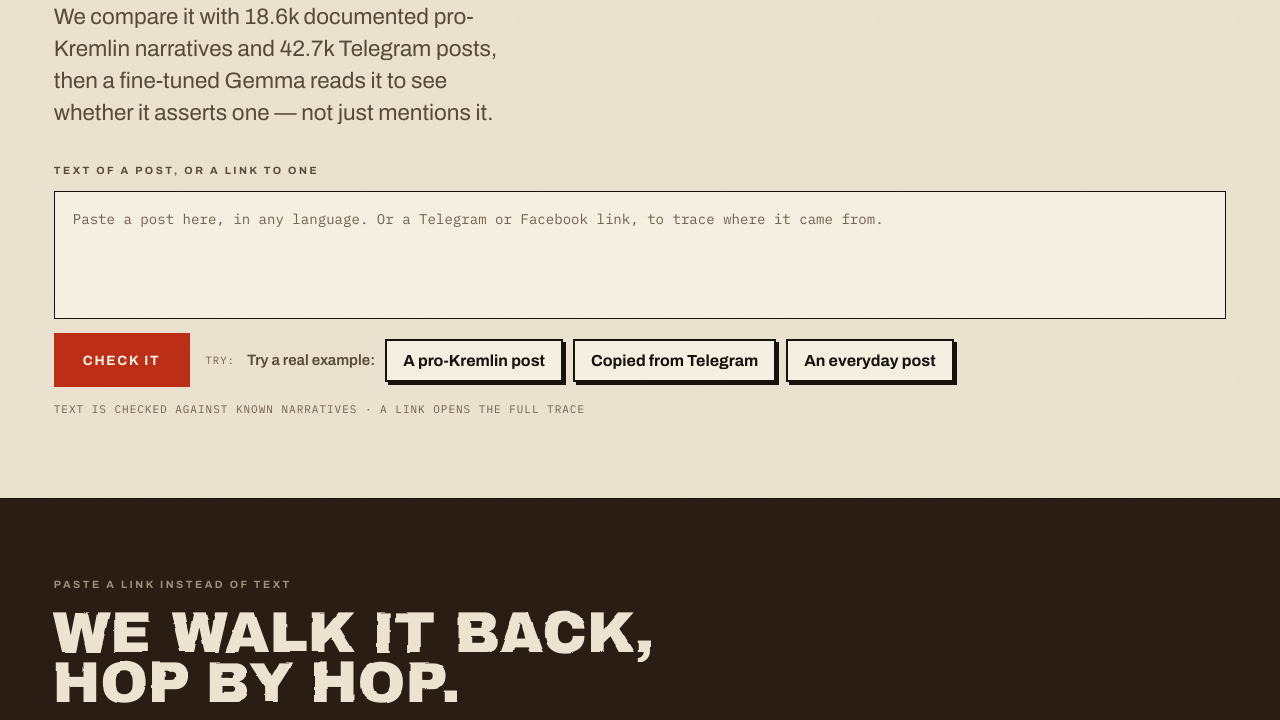
Test: the start page's text box runs the narrative check › flagged (demo): verdict, narrative with source, techniques highlighted, Telegram copy, state-media echo, disclaimer
(page scrolled)
Click the button "A pro-Kremlin post": [474, 360] box [385, 339, 563, 382]
(page scrolled)
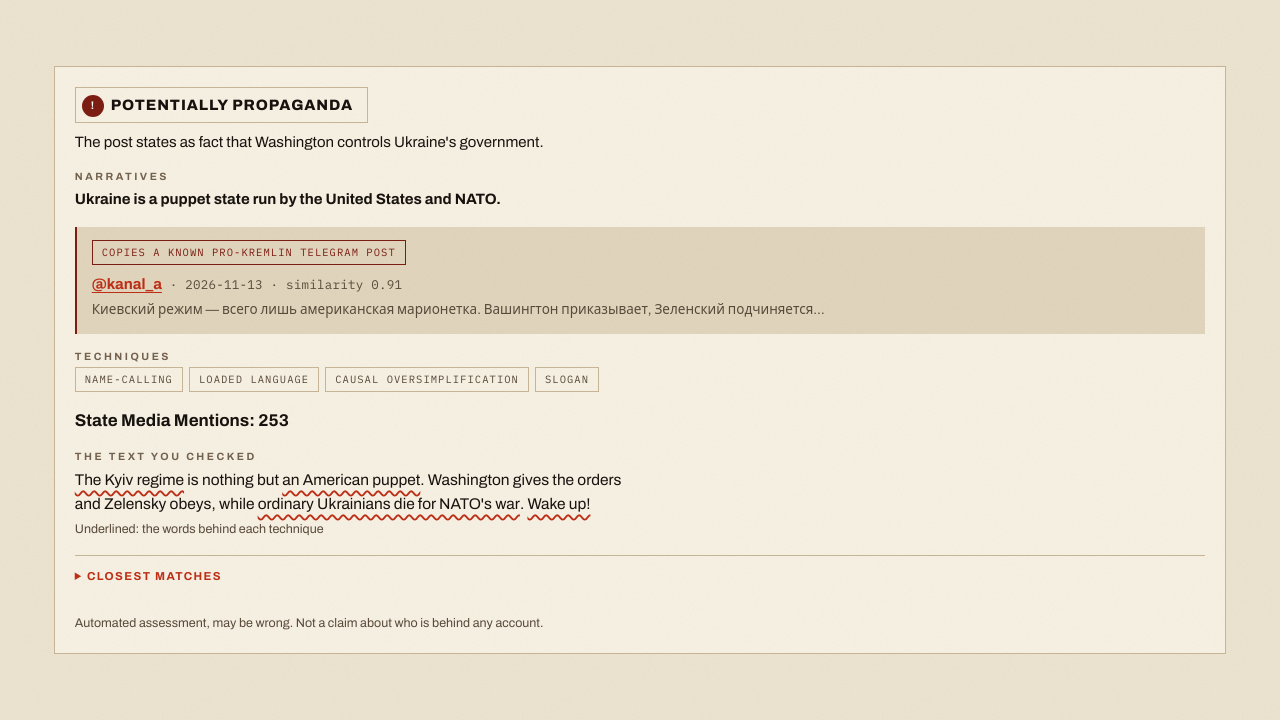
Result: the text "Potentially propaganda" is shown at [111, 97, 353, 113]
Result: the element named "Narrative check" shows "Narratives" at [75, 172, 169, 182]
Result: the element named "Narrative check" shows "Ukraine is a puppet state run by the United States and NATO." at [75, 191, 501, 207]
